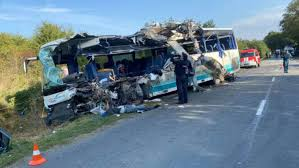car: (34, 14, 239, 111)
